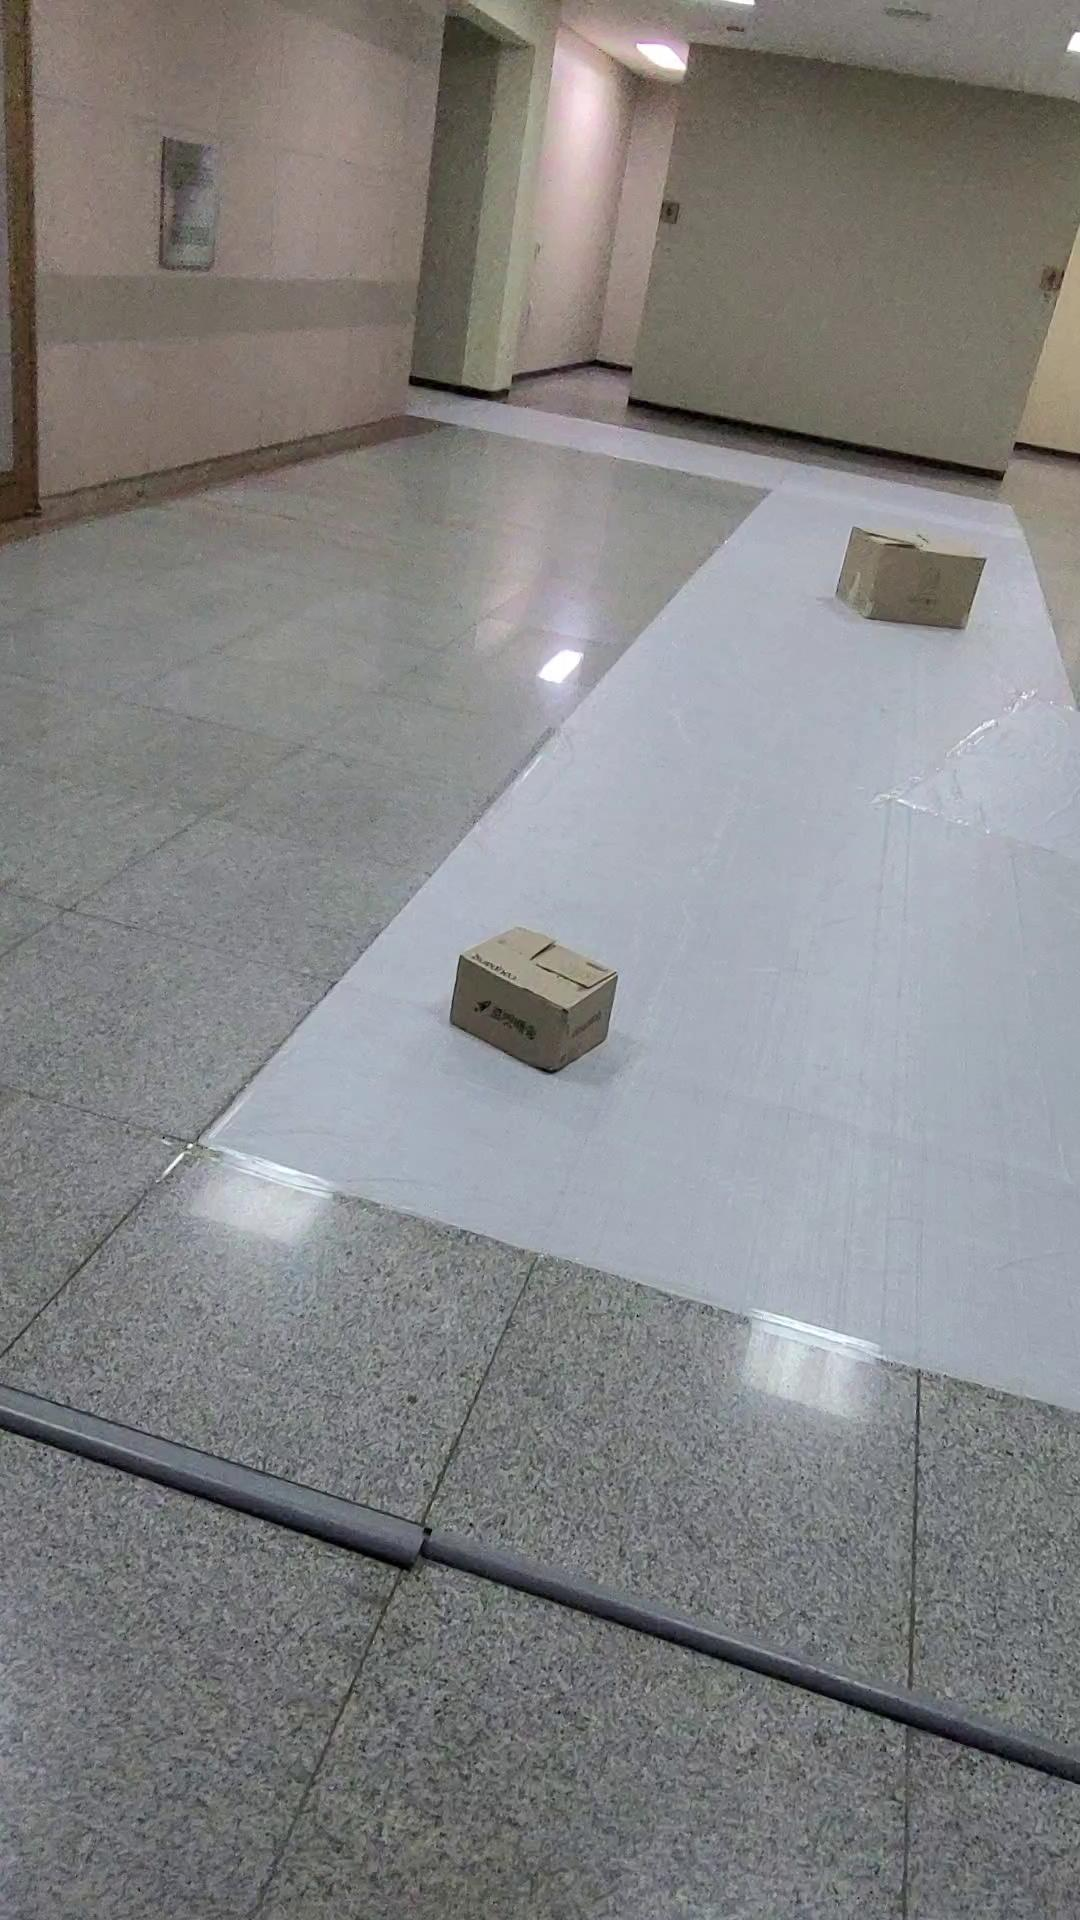Box: (446, 918, 622, 1083), (837, 518, 997, 636)
